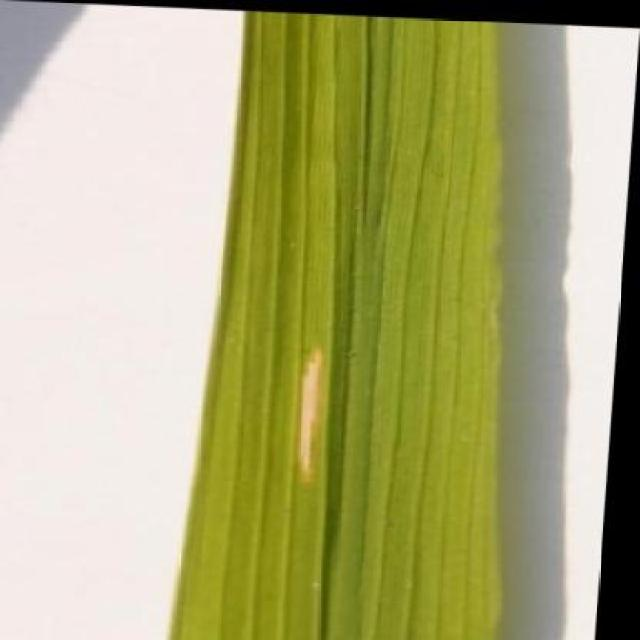Brown_Spot: (172, 6, 550, 640)
